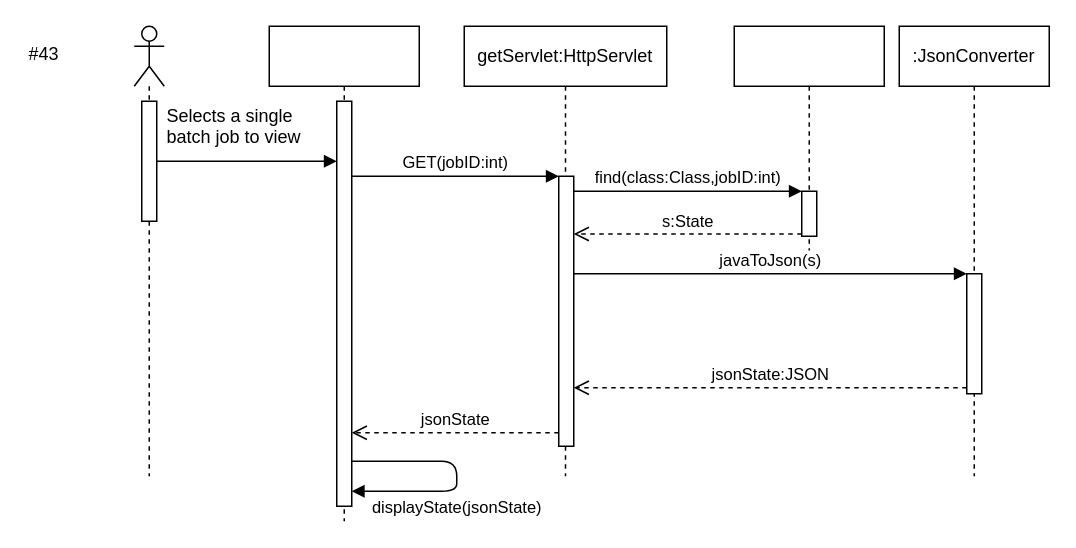
Image size: 1076x548. Some labels were removed from this diagram. Each missing label, with the box of its shape:
em:EntityManager: (733, 25, 884, 251)
page:DOM: (268, 25, 419, 521)
